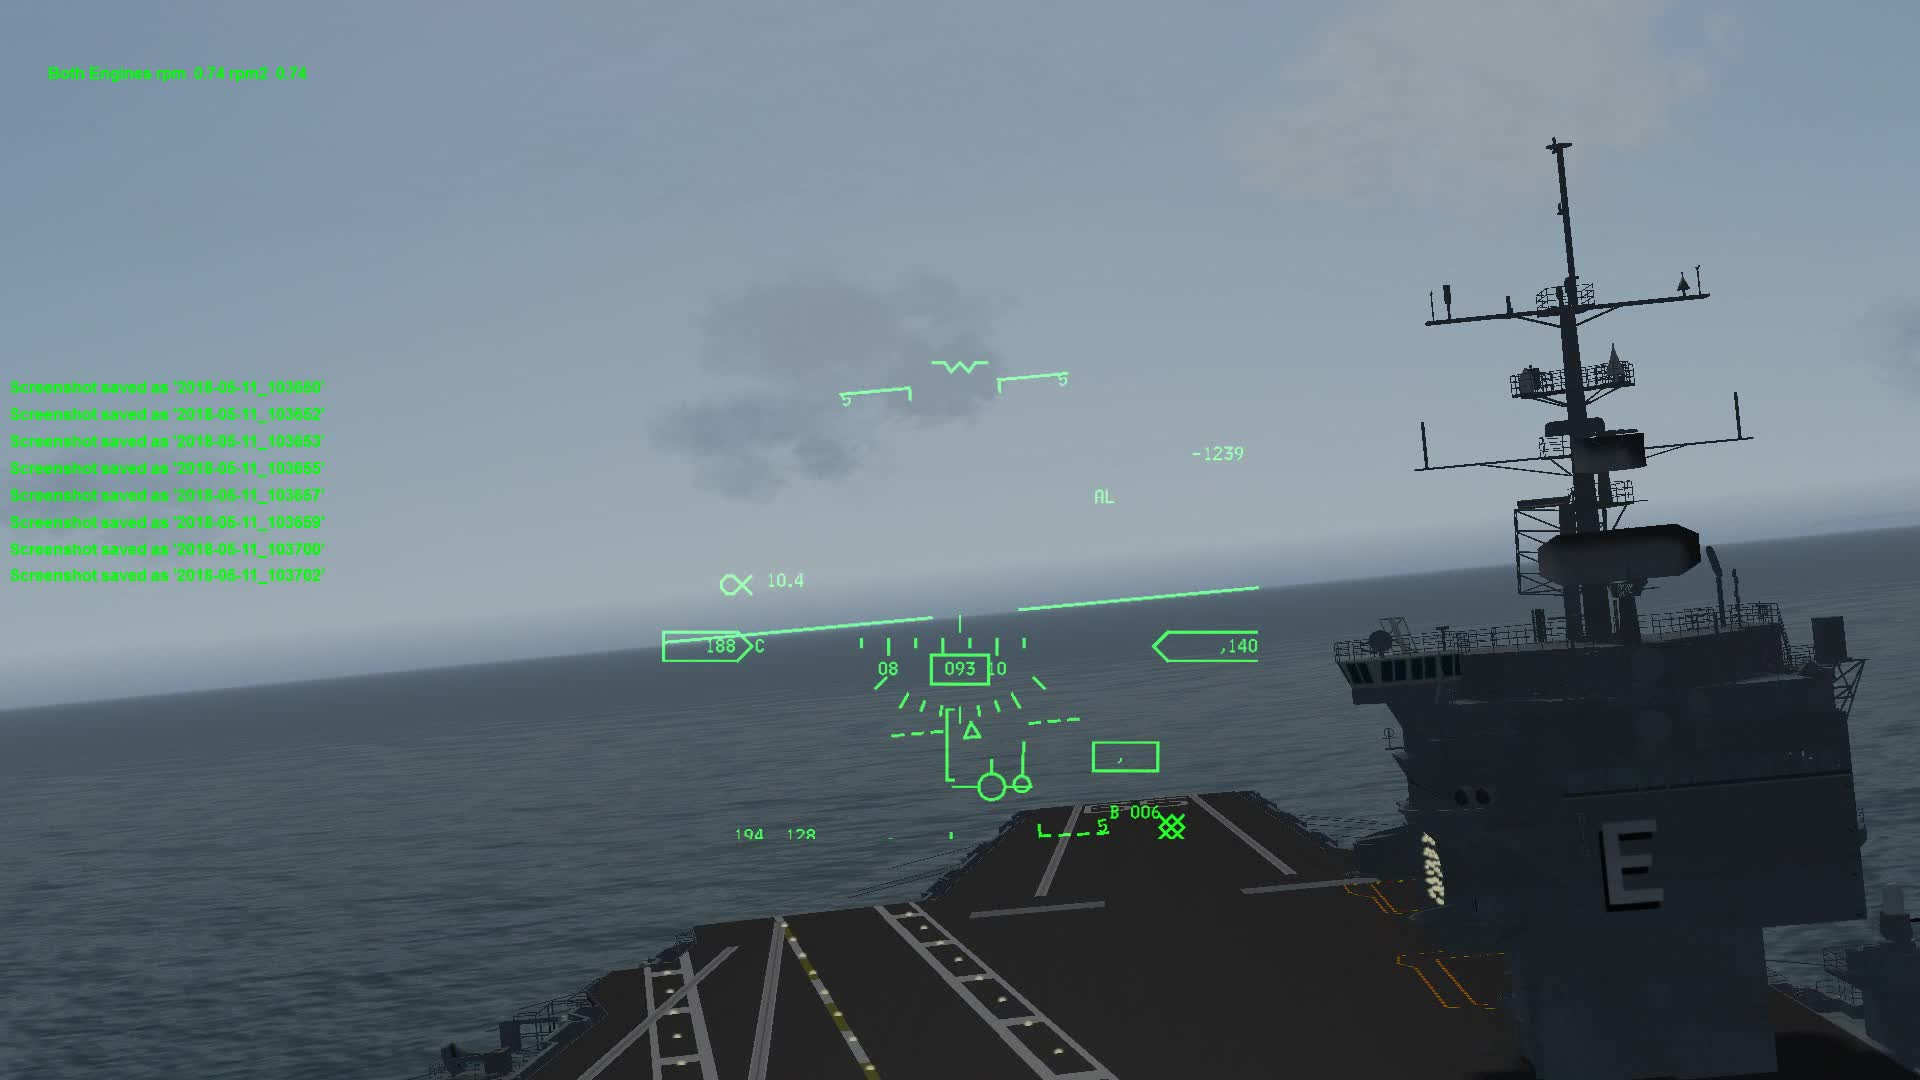speed vector: (953, 752, 1055, 806)
